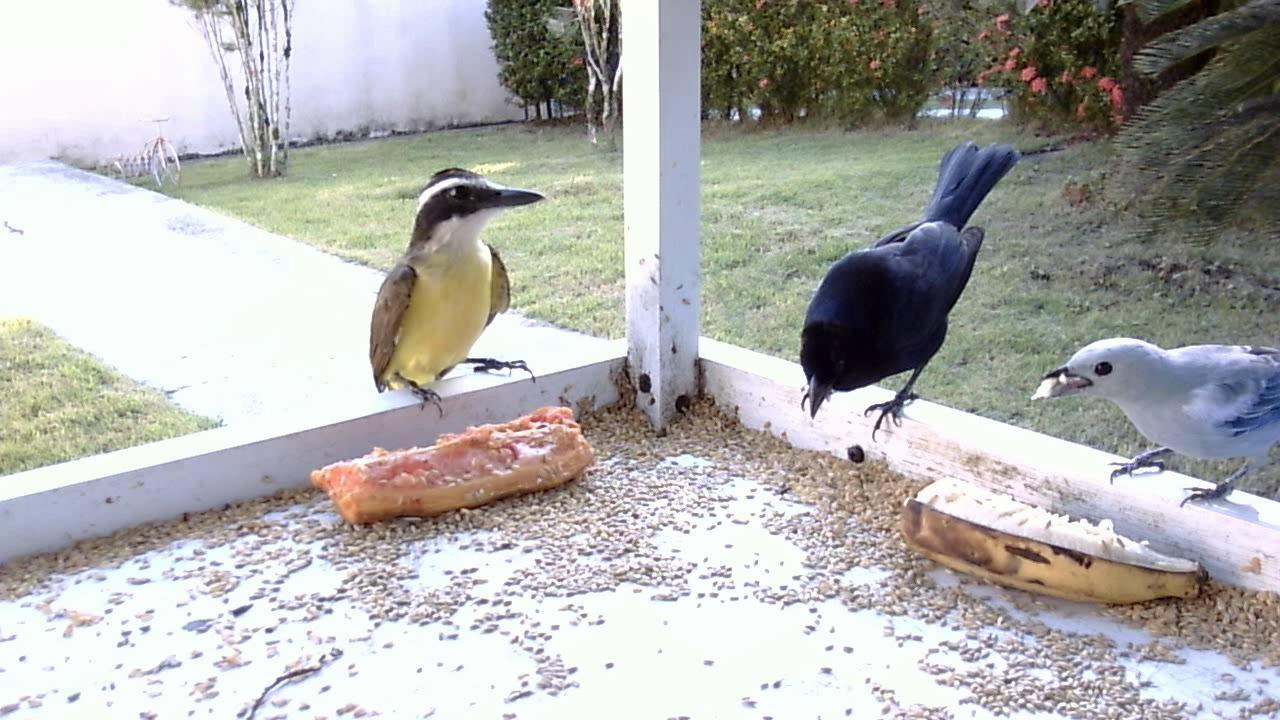bem_te_vi: (360, 163, 548, 414)
chupim: (791, 151, 1030, 456)
sanhaco_da_amazonia: (1032, 330, 1273, 516)
